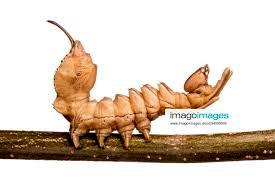Lobster Moth: (48, 35, 237, 152)
